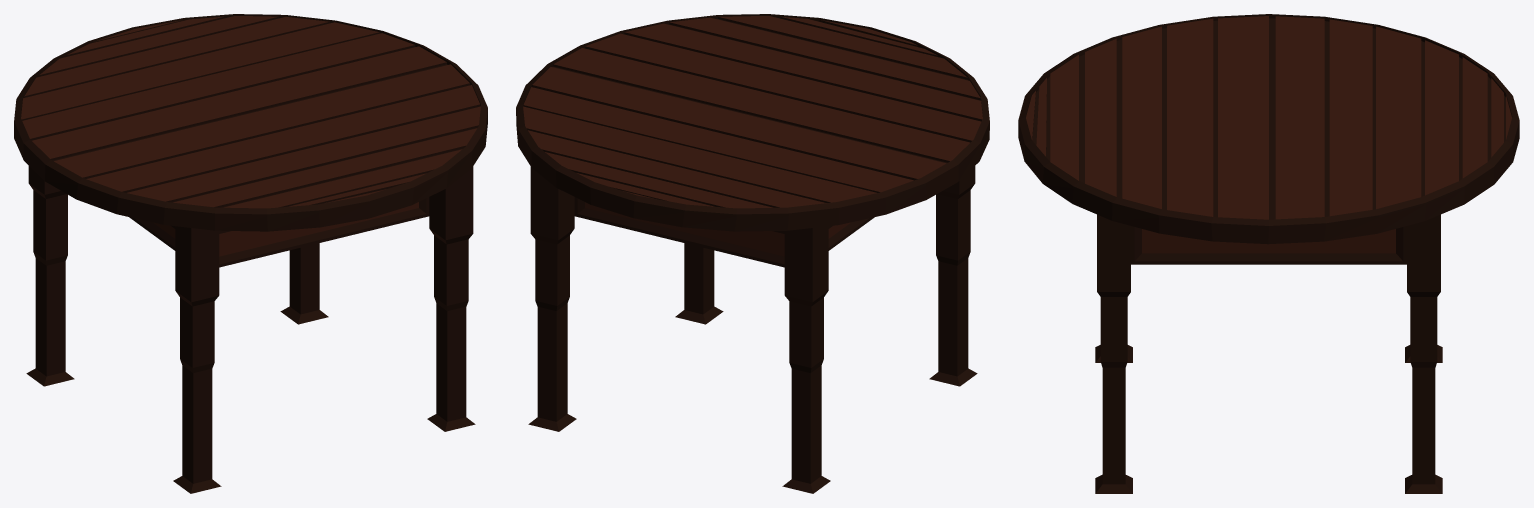
Rendered from Table 3.FBX.
The picture shows the model from 3 angles, left to right: view 1: azimuth 30°, elevation 25°; view 2: azimuth 150°, elevation 25°; view 3: azimuth 270°, elevation 25°; orthographic projection. The views are drawn at different scales.
Visible parts, largest first — view 1: Group001, Circle002; view 2: Group001, Circle002; view 3: Group001, Circle002.
Boxes of the visible parts, left/top/right/bottom form: Group001: left=21, top=16, right=480, bottom=256; Circle002: left=14, top=14, right=487, bottom=493; Group001: left=523, top=16, right=982, bottom=256; Circle002: left=516, top=14, right=989, bottom=493; Group001: left=1026, top=16, right=1511, bottom=253; Circle002: left=1018, top=14, right=1519, bottom=493.
Size of the model in its own units: 70 by 46.8 by 70.
